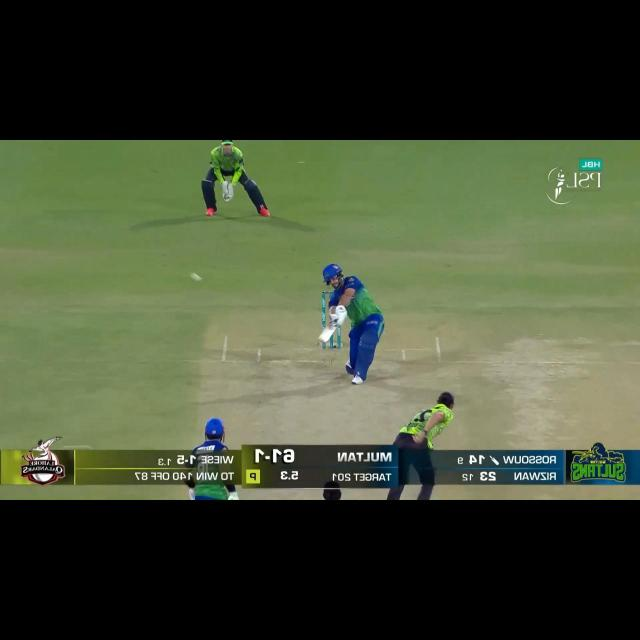bat: (318, 316, 338, 344)
toe: (316, 333, 328, 344)
